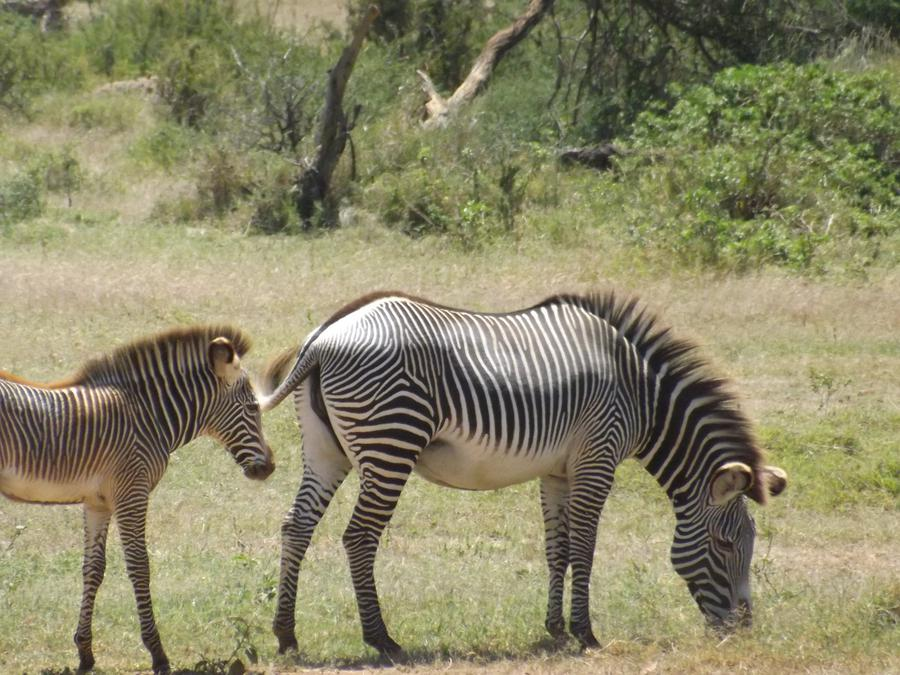zebra_grevys: (286, 292, 620, 479), (2, 351, 147, 493)
